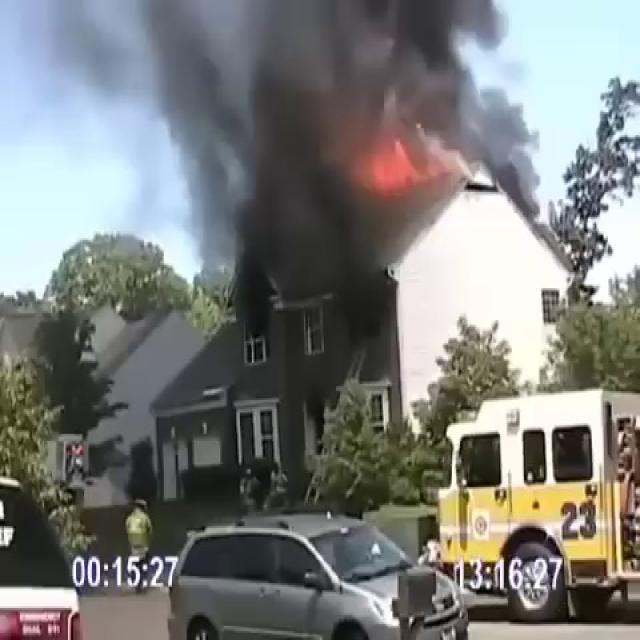Smoke: (8, 0, 550, 324)
